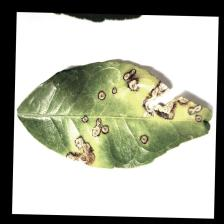canker: (82, 66, 213, 166)
